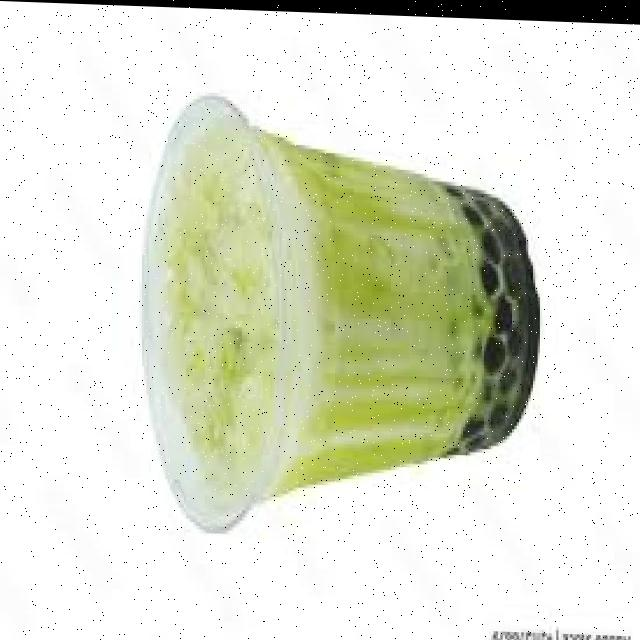cup: (143, 94, 538, 530)
